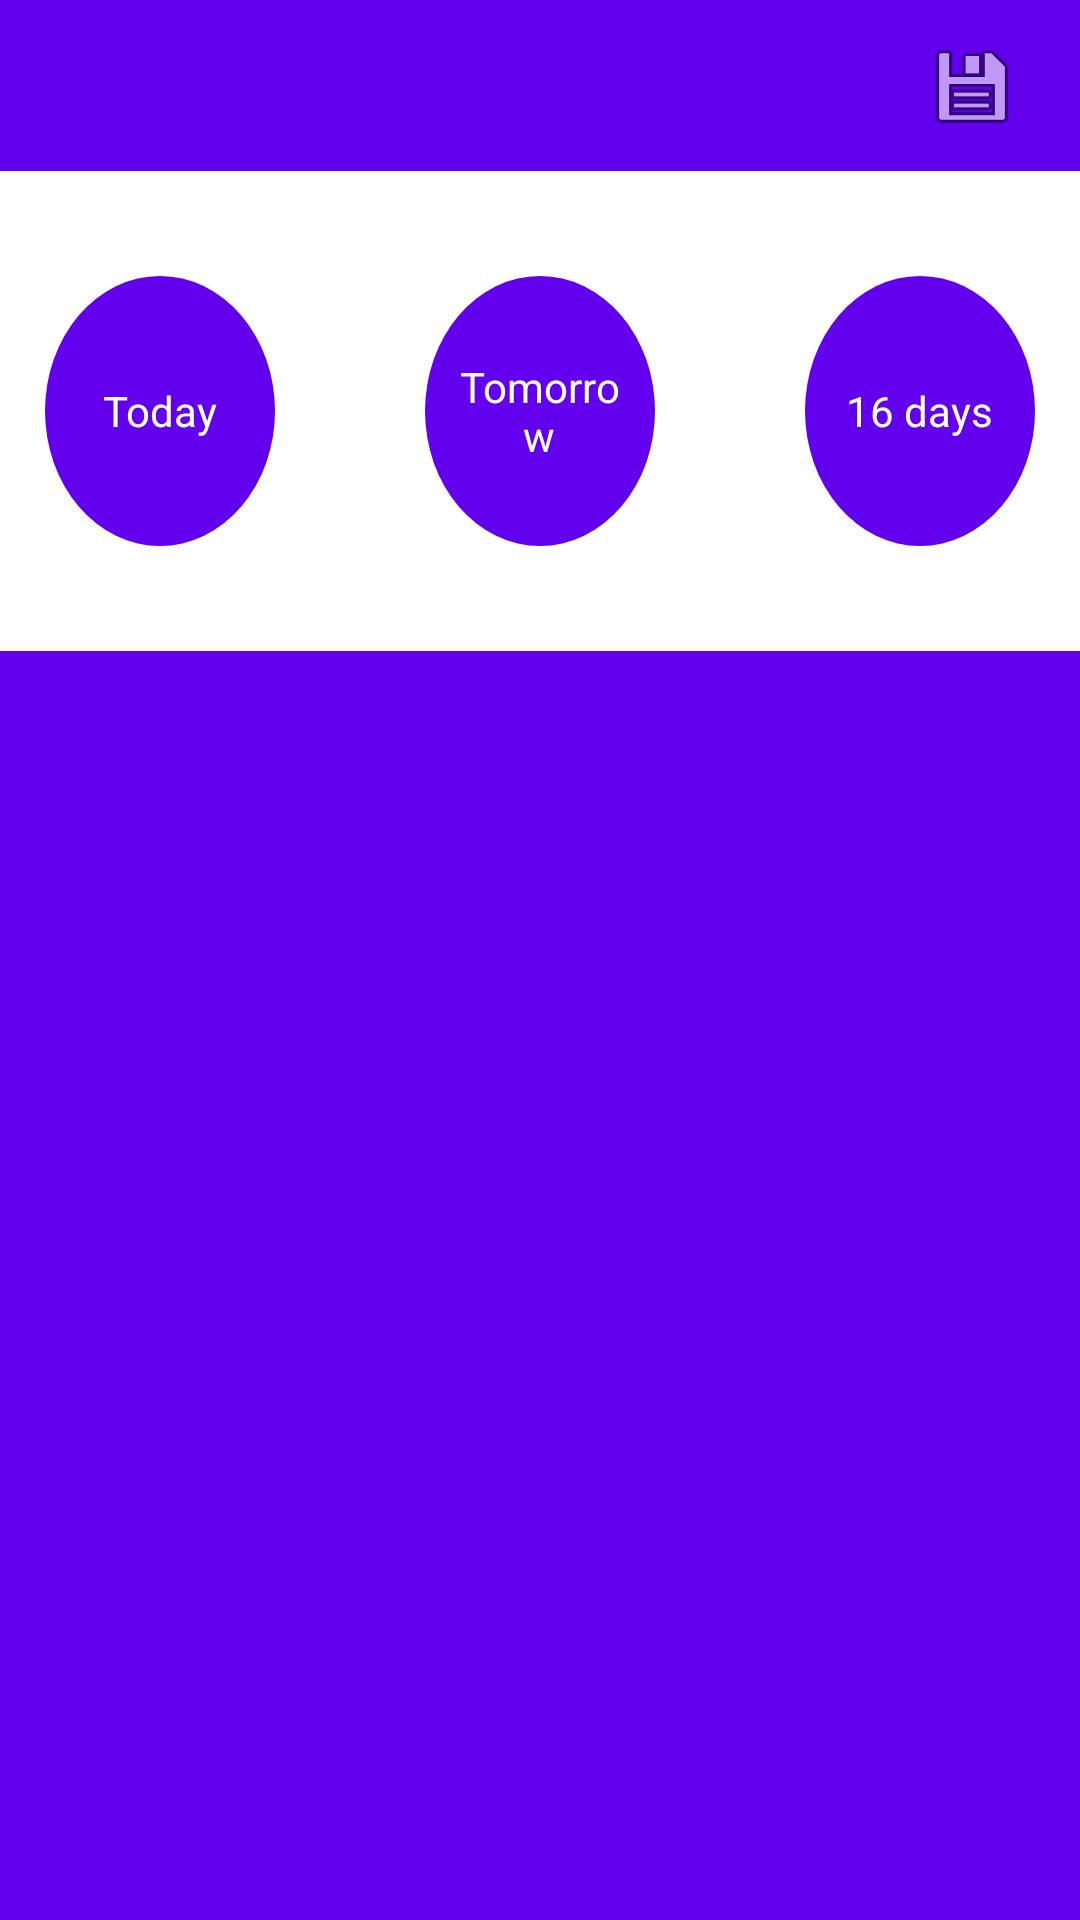

Screen size 1080w x 1920h. Icon name, then its center in pixels as (x=x, y=y):
save: (x=972, y=86)
